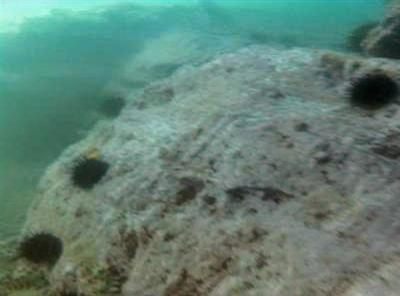urchin: (343, 68, 400, 111), (18, 228, 66, 264), (67, 153, 111, 189)
